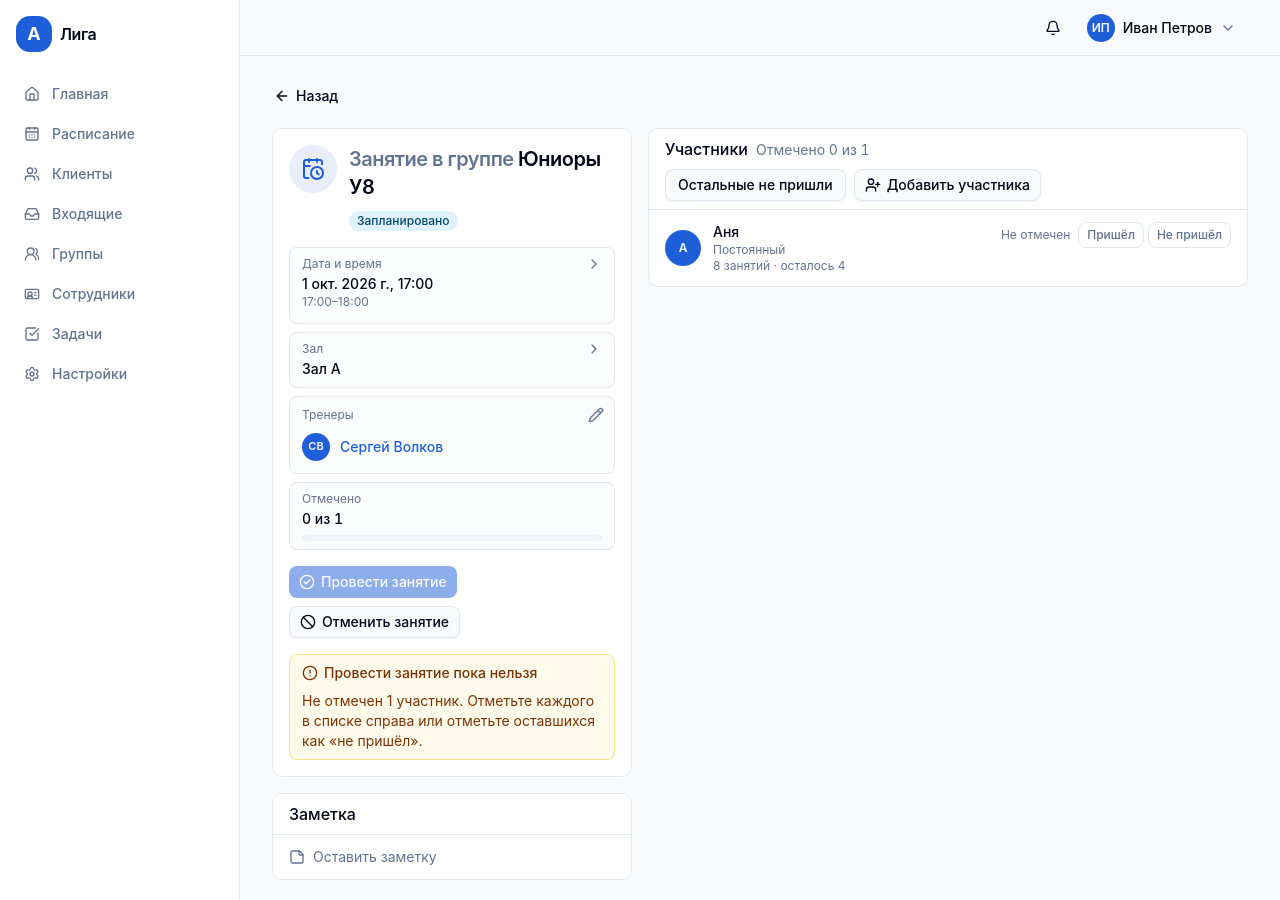
Test: карточка занятия › клик по участнику открывает краткую карточку клиента панелью, не уходя с занятия
Step 1. Click the link "Аня" → x=726, y=232, box [713,222,739,242]
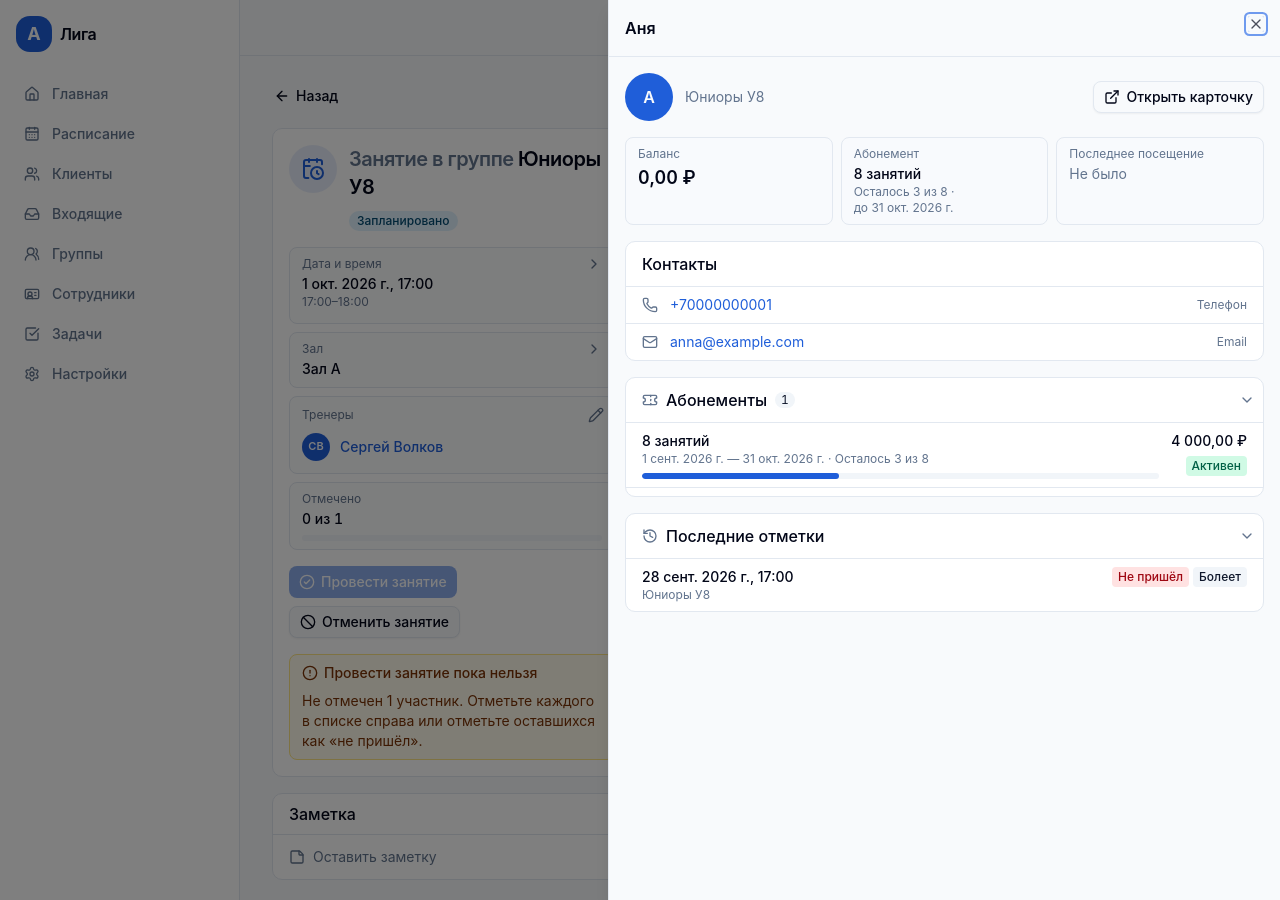
Expected: the text "Не пришёл" is shown, [1112,567,1189,587]
Step 2. Click the button named "Закрыть" → x=1256, y=24, box [1248,16,1264,32]
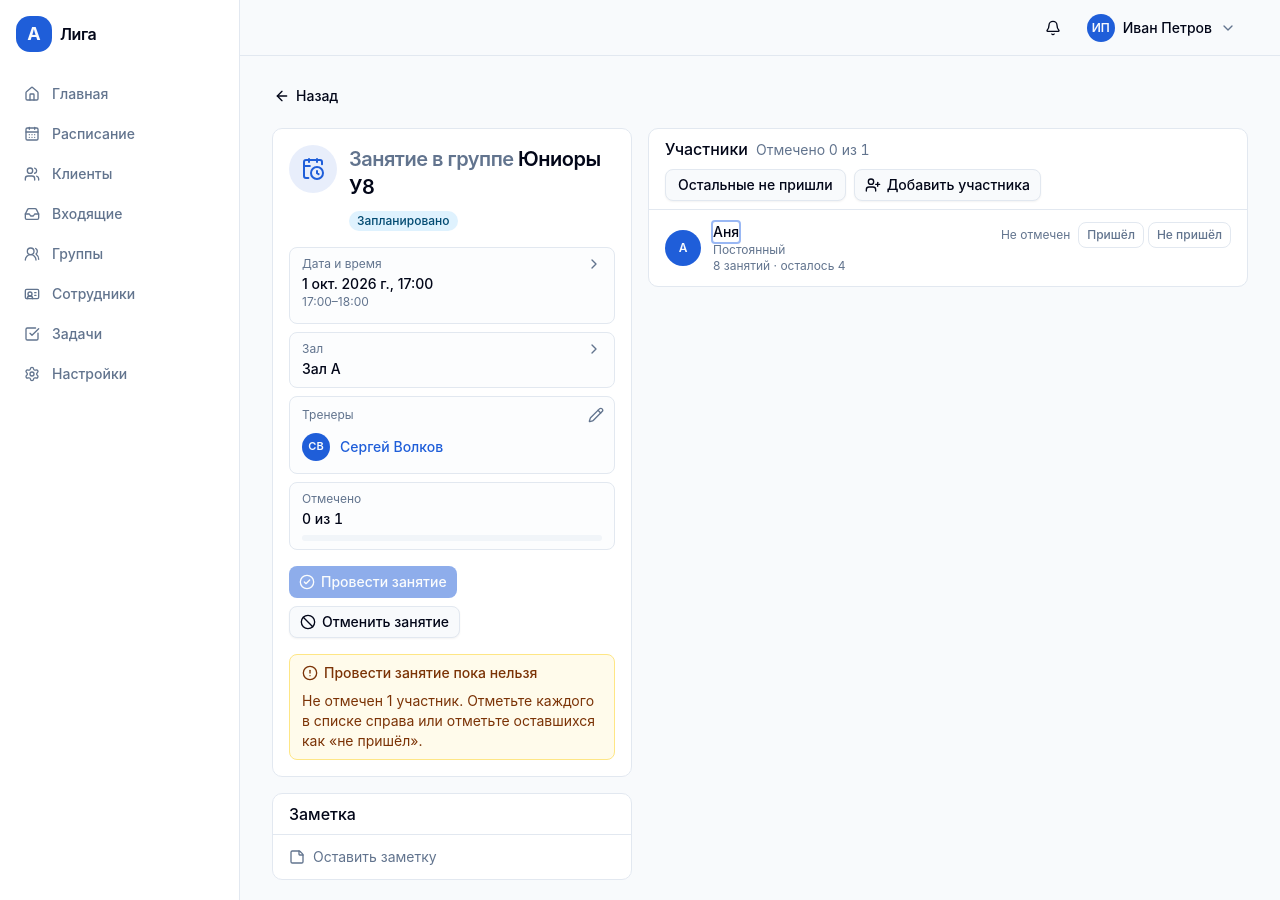
Expected: the dialog is gone
